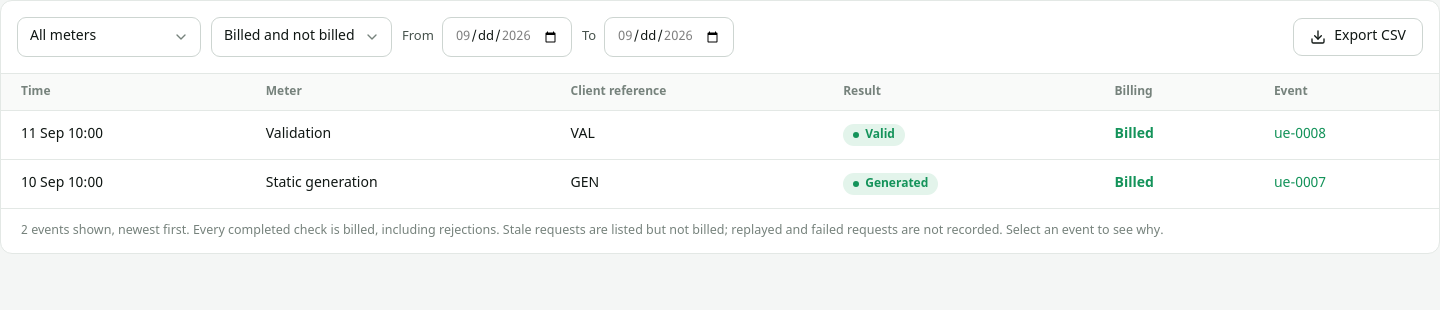
Test case: usage table reads the API › sends the meter and billing filters to the server
Expected: the text "GEN" is shown, [551,160,823,208]
Select "Validation" in the dropdown named "Meter": (109, 37) [17,17,201,57]
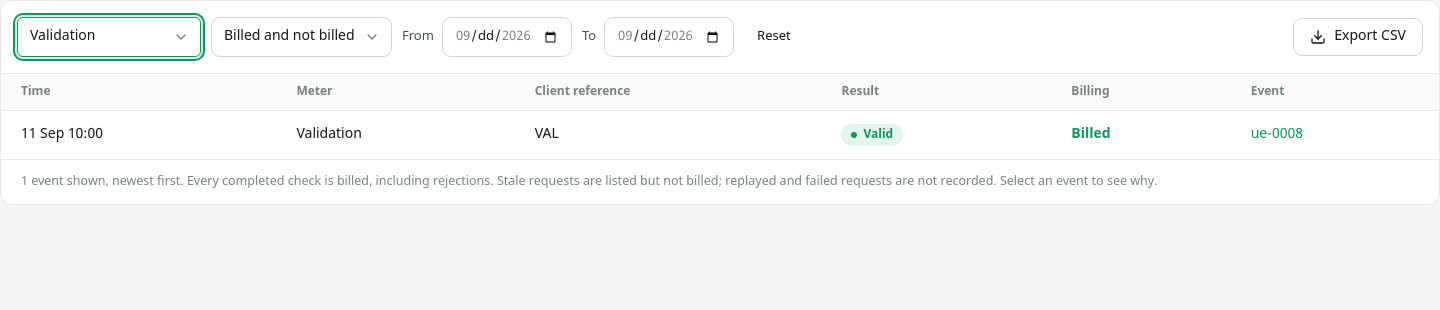
Expected: the text "VAL" is shown, [515,110,822,159]
Now the text "gen" is gone
Select "Not billed" in the dropdown named "Billing": (302, 37) [211,17,392,57]
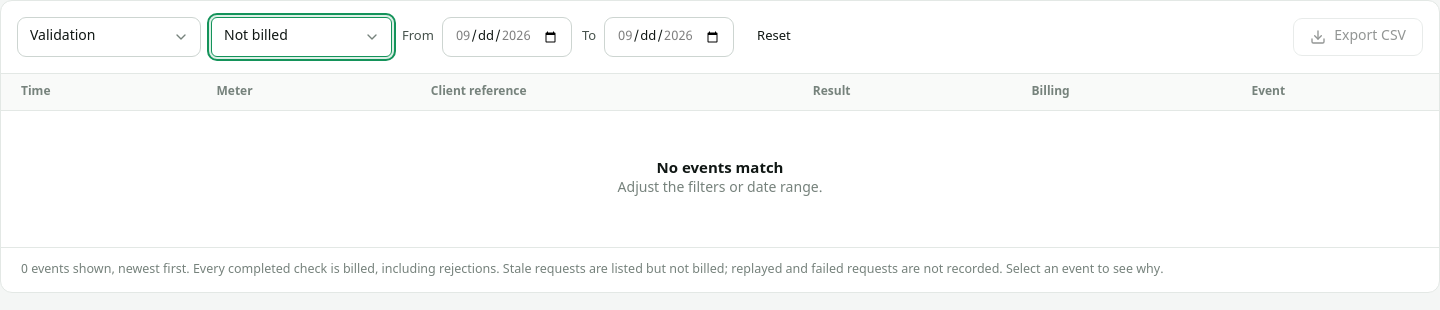
Now the text "No events match" is shown, box [656,159,783,179]
